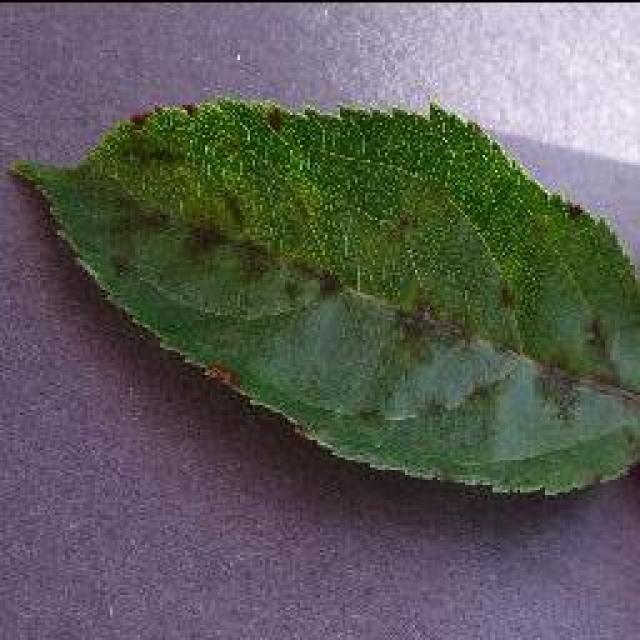apple scab disease: (8, 92, 638, 500)
